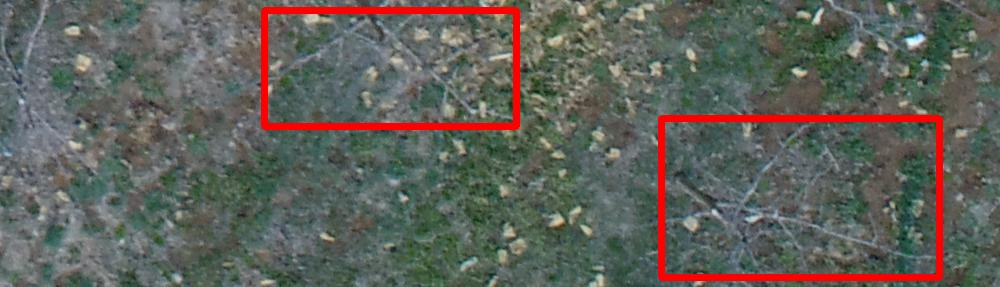apple: (661, 118, 939, 277), (264, 10, 516, 126)
